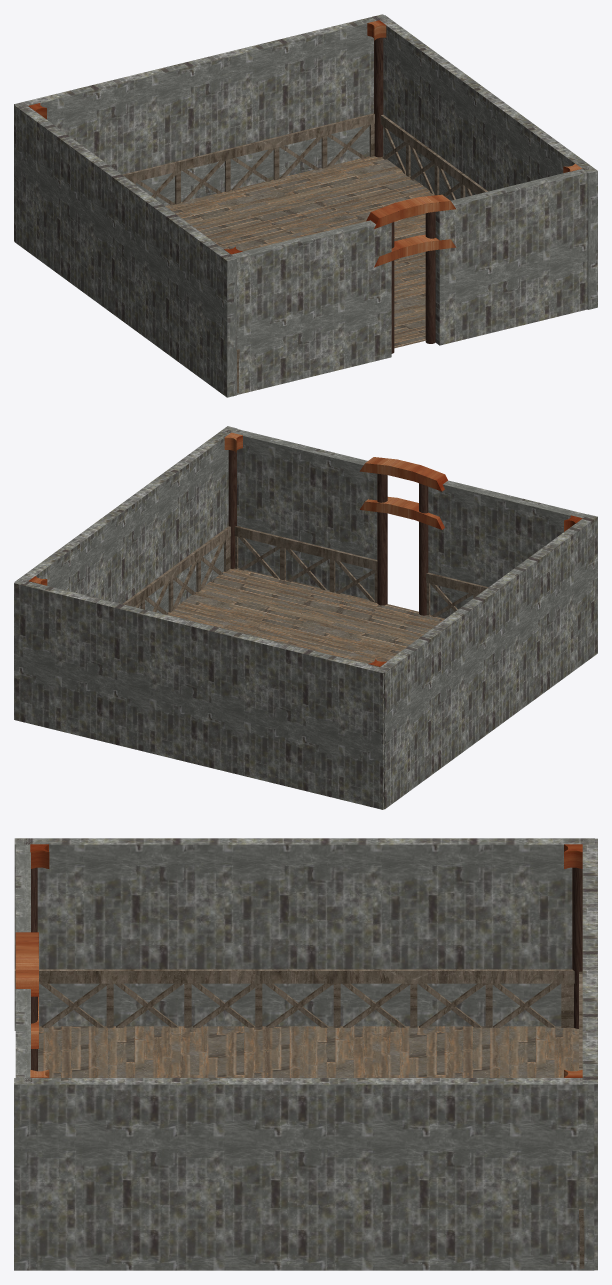
The model's file is 1 Puerta.fbx.
3 renders of one model, top to bottom at view 1: azimuth 30°, elevation 25°; view 2: azimuth 150°, elevation 25°; view 3: azimuth 270°, elevation 25°, orthographic. The views are drawn at different scales.
Visible parts, largest first — view 1: polySurface185; view 2: polySurface185; view 3: polySurface185.
Boxes of the visible parts, x1,y1,x2,y2 form: polySurface185: (14,14,597,397); polySurface185: (14,426,597,809); polySurface185: (14,838,597,1270).
Size of the model in its own units: 472 by 176 by 471.
Materials: 5 (5 with a texture image).
